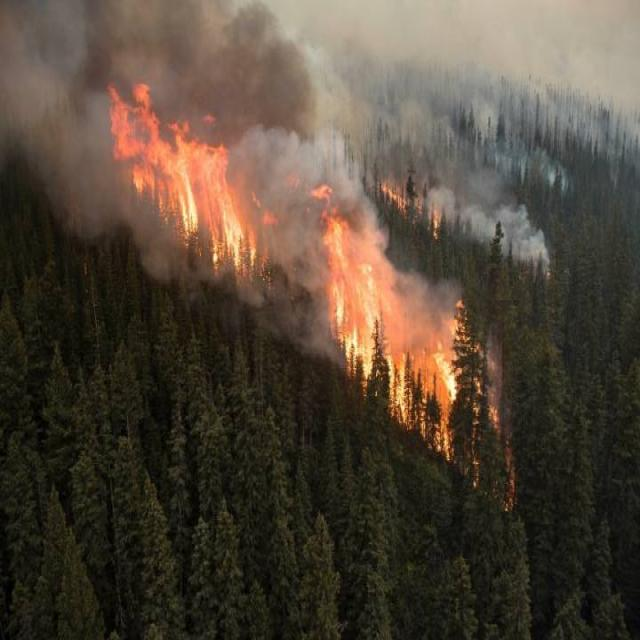Fire: (323, 211, 489, 477), (109, 81, 248, 278), (382, 180, 447, 236)
Smoke: (0, 0, 321, 325), (249, 9, 635, 236)
